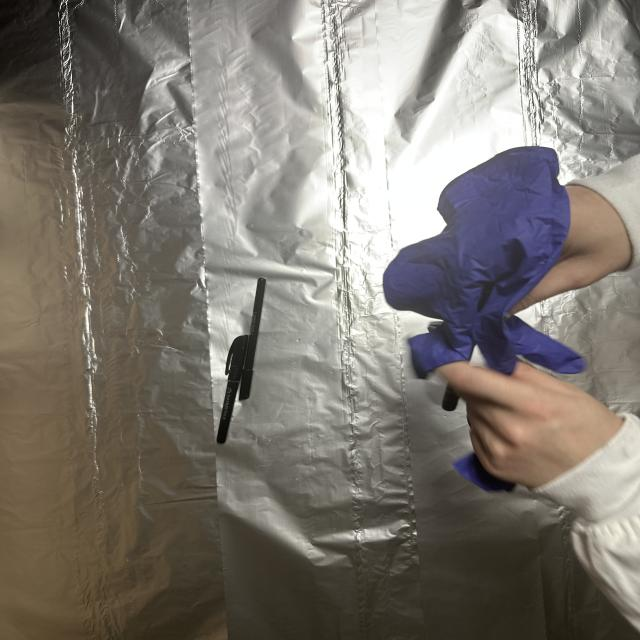glove_not_fitted: (352, 141, 635, 336), (388, 321, 634, 504)
